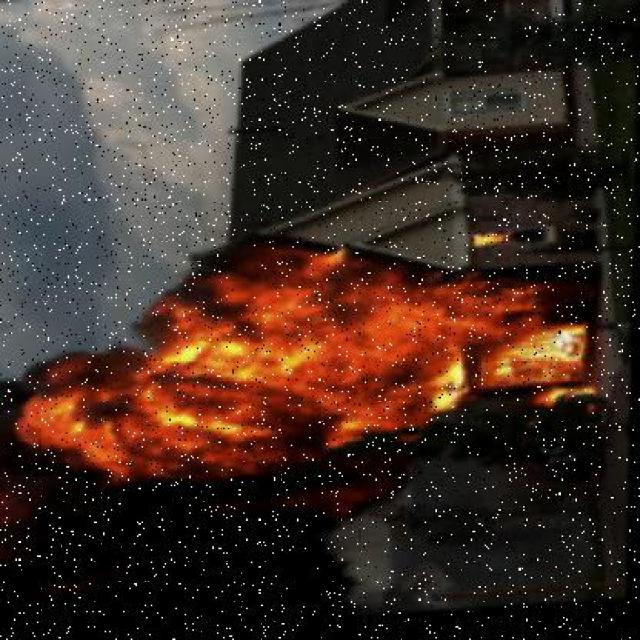fire: (38, 222, 526, 505)
